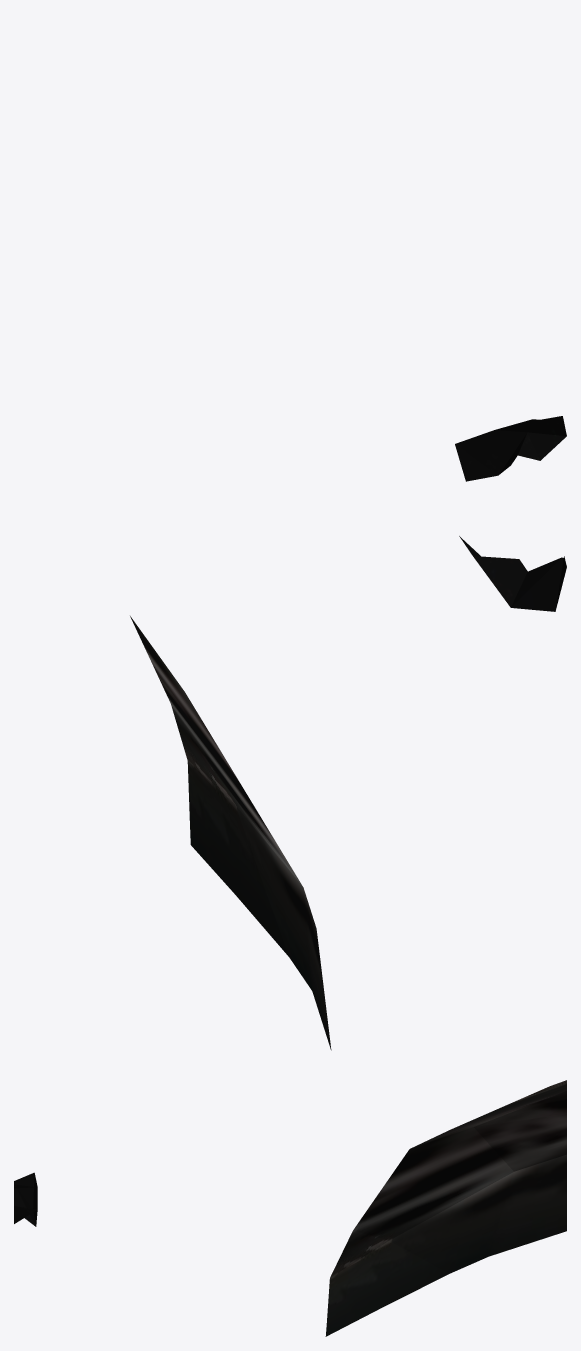
3 views of the same model, one above another, from view 1: azimuth 30°, elevation 25°; view 2: azimuth 150°, elevation 25°; view 3: azimuth 270°, elevation 25° (orthographic). The views are drawn at different scales.
Bounding box in the file's own units: 0.3787 × 0.4193 × 0.8374.
Materials: 1 (1 with a texture image).
